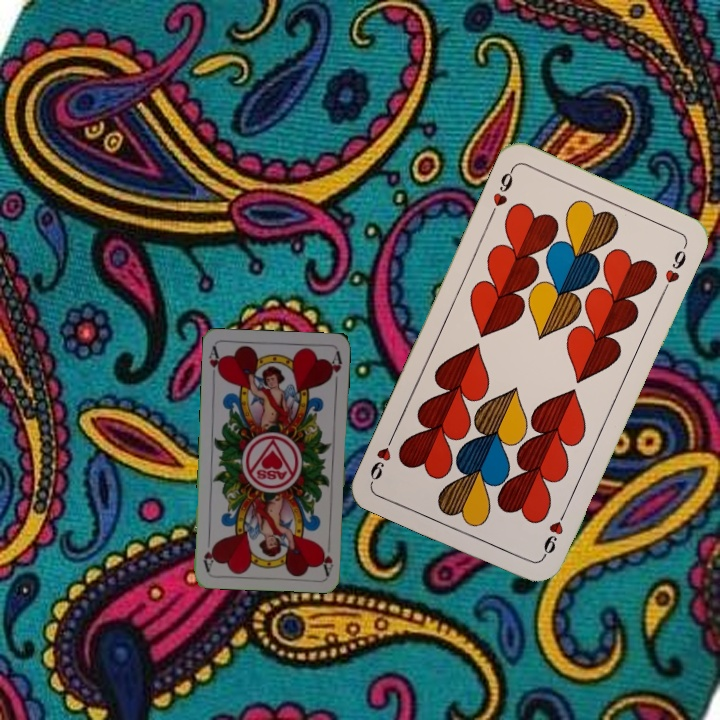H9: (485, 164, 517, 220), (538, 505, 570, 561)
HA: (205, 343, 225, 384), (317, 536, 336, 577)
